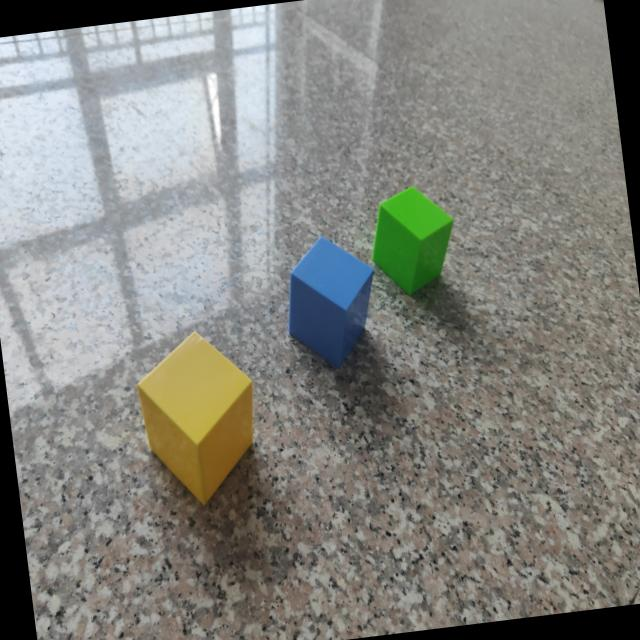blue: (288, 238, 373, 370)
green: (373, 187, 453, 296)
yellow: (135, 333, 255, 505)
